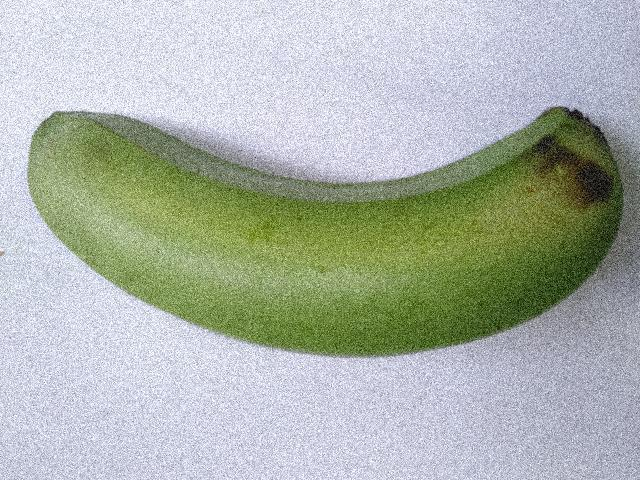freshunripe: (6, 59, 639, 392)
